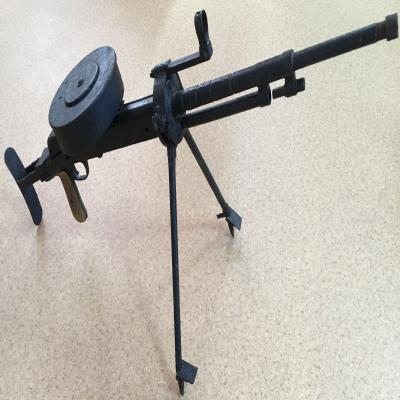weapon: (4, 11, 400, 396)
